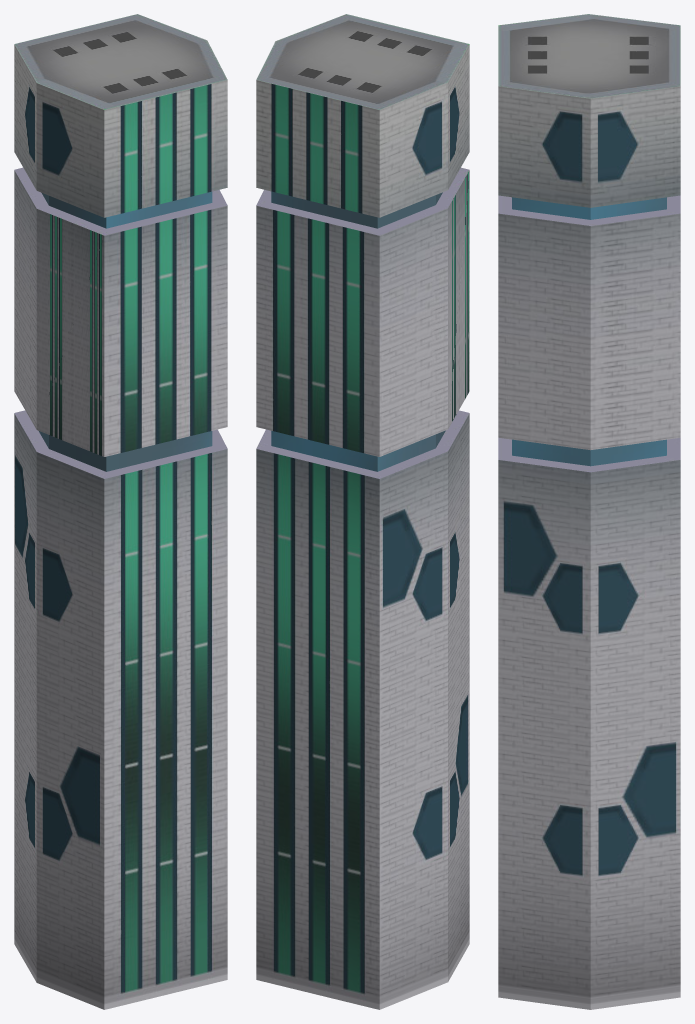
File: House_11(2).FBX
The picture shows the model from 3 angles, left to right: view 1: azimuth 30°, elevation 25°; view 2: azimuth 150°, elevation 25°; view 3: azimuth 270°, elevation 25°; orthographic projection.
Parts seen in each view (by area): view 1: House_11; view 2: House_11; view 3: House_11.
Part boxes in pixels (<box>): House_11: <box>14,14,227,1009</box>; House_11: <box>256,14,469,1009</box>; House_11: <box>498,14,680,1009</box>.
Bounding box in the file's own units: 21.98 × 110 × 20.
1 material, 1 textured.
